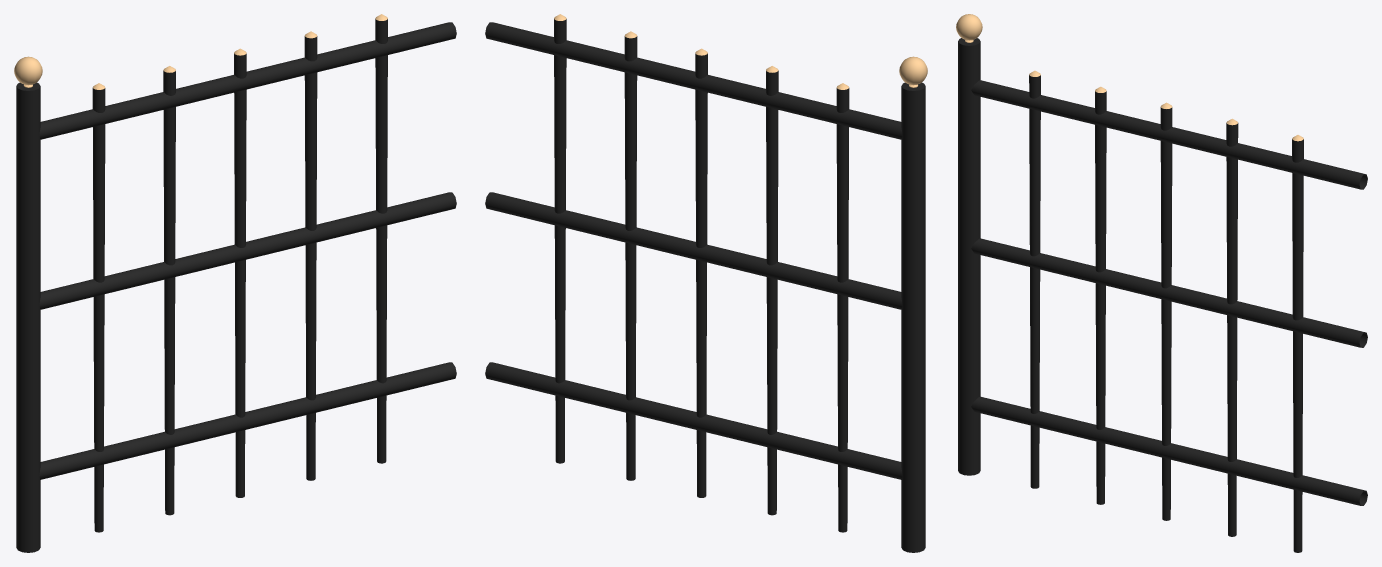
File: Fence.fbx
3 renders of one model, left to right at view 1: azimuth 30°, elevation 25°; view 2: azimuth 150°, elevation 25°; view 3: azimuth 330°, elevation 25°, orthographic. The views are drawn at different scales.
Parts seen in each view (by area): view 1: SM_Fence; view 2: SM_Fence; view 3: SM_Fence.
Boxes of the visible parts, left/top/right/bottom form: SM_Fence: left=14, top=14, right=456, bottom=552; SM_Fence: left=485, top=14, right=927, bottom=552; SM_Fence: left=956, top=14, right=1367, bottom=552.
Size of the model in its own units: 30877 by 1755 by 33129.
